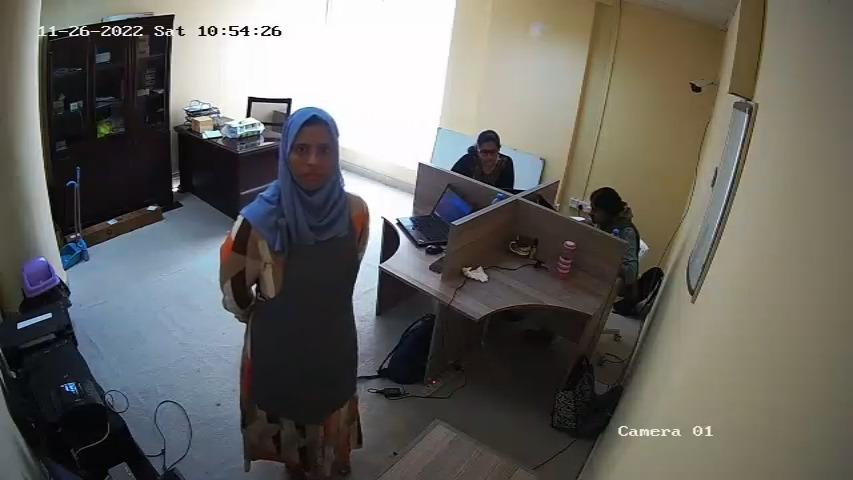apron: (248, 205, 359, 416)
